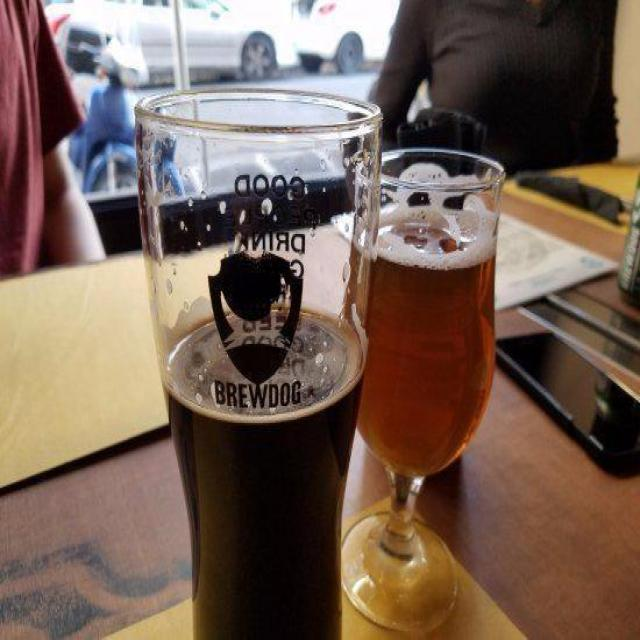glass-normal: (131, 76, 384, 638)
glass-wine: (340, 144, 507, 632)
